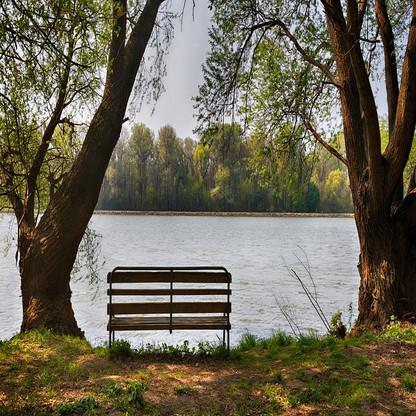obstacle: (97, 260, 241, 357)
